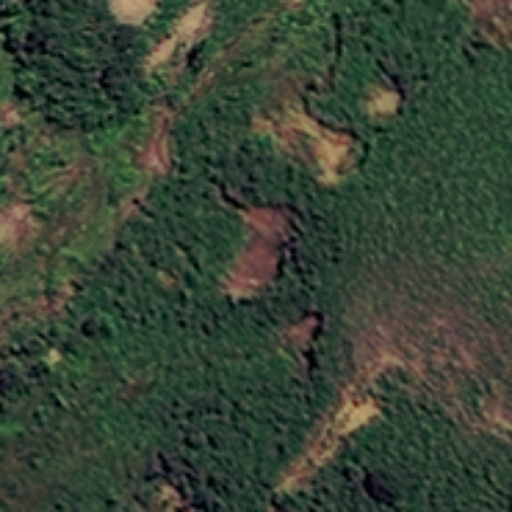landslide: (227, 78, 407, 301), (278, 320, 420, 492), (105, 5, 210, 186)
